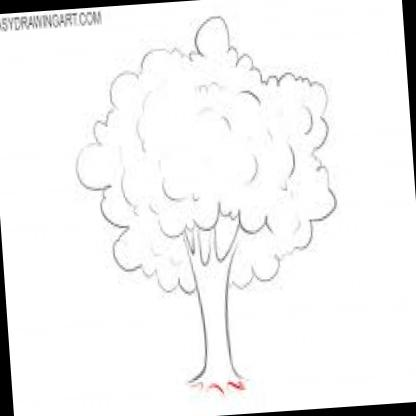branch_cut: (178, 219, 248, 276)
crown_cloud: (65, 3, 347, 302)
trunk_straight: (194, 300, 237, 354)
